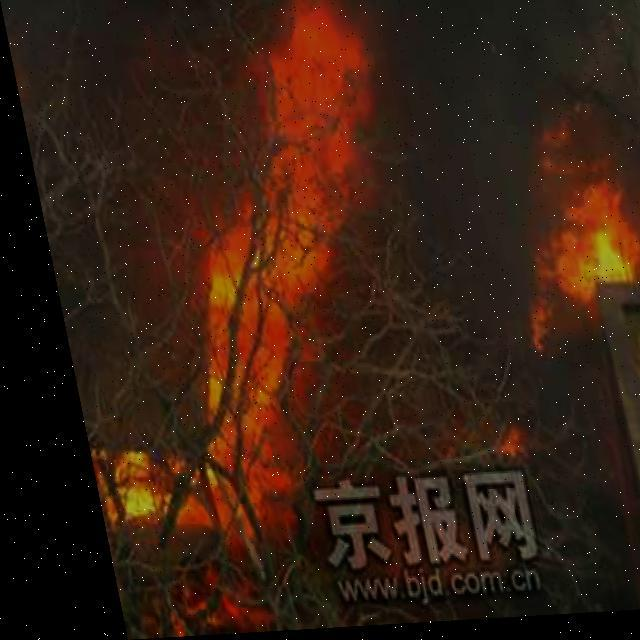Fire: (4, 0, 431, 529), (490, 116, 637, 313)
